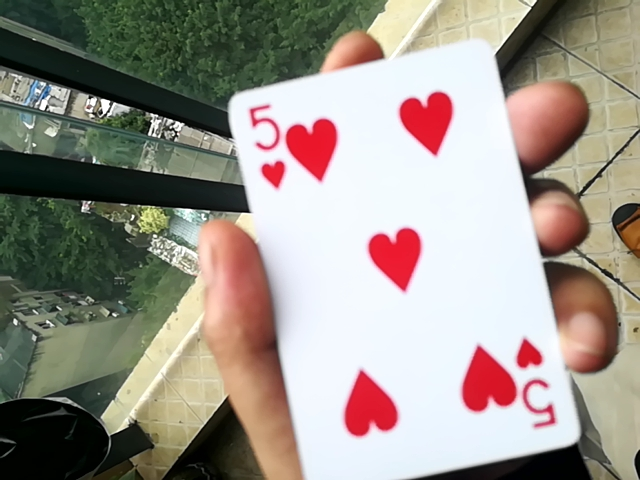hx 5: (211, 43, 576, 480)
